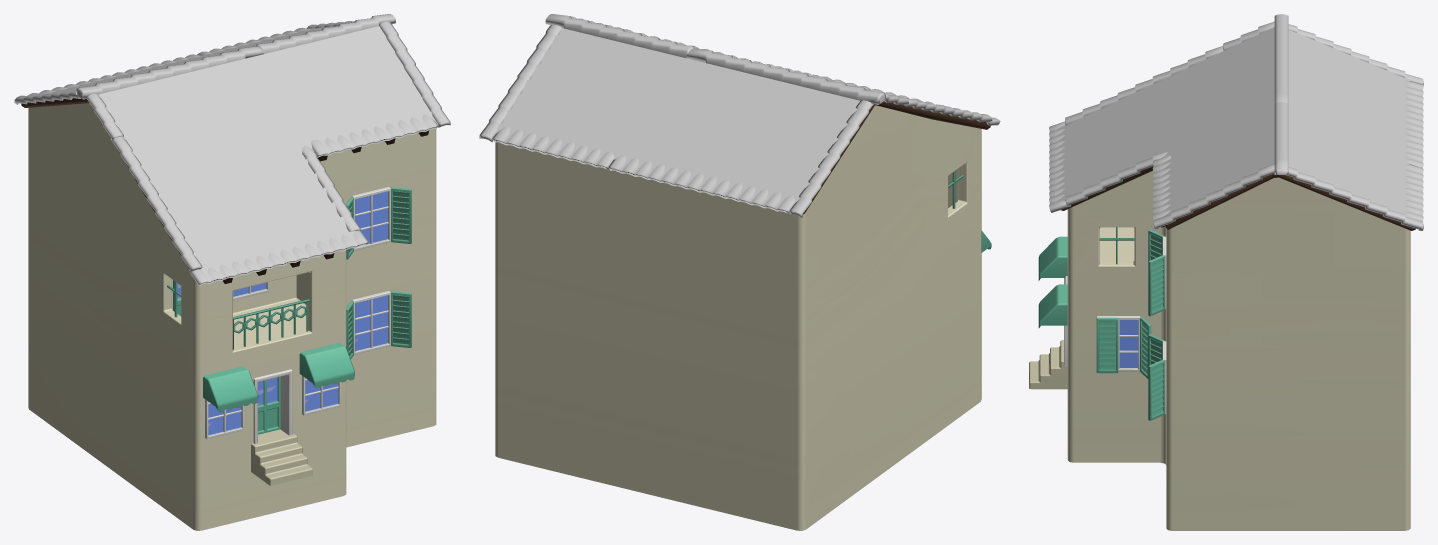
Rendered from BackgroundBuilding8.fbx.
3 renders of one model, left to right at view 1: azimuth 30°, elevation 25°; view 2: azimuth 150°, elevation 25°; view 3: azimuth 270°, elevation 25°, orthographic. The views are drawn at different scales.
Parts seen in each view (by area): view 1: Cube.178, Plane.011, Cube.182, Plane.004, Cube.184, Plane.003, Plane.010, Cube.191, Cube.193, Cube.187, Plane.035, Plane.034 (+13 smaller); view 2: Cube.178, Plane.038, Plane.037, Plane.003, Plane.034, Plane.039, Plane.036, Plane.040, Florist.002, Plane.010; view 3: Cube.178, Plane.011, Plane.038, Florist.002, Cube.182, Plane.040, Plane.037, Plane.003, Cube.198, Cube.197, Plane.033, Plane.010 (+11 smaller).
Part boxes in pixels (box(x1,y1,x2,y2)): Cube.178: box(28, 103, 436, 530); Plane.011: box(98, 26, 438, 276); Cube.182: box(251, 429, 312, 485); Plane.004: box(189, 230, 368, 285); Cube.184: box(351, 291, 390, 354); Plane.003: box(76, 46, 263, 99); Plane.010: box(112, 136, 202, 271); Cube.191: box(299, 342, 354, 388); Cube.193: box(203, 366, 258, 412); Cube.187: box(351, 187, 390, 250); Plane.035: box(311, 114, 438, 157); Plane.034: box(256, 14, 395, 53); Cube.178: box(495, 105, 981, 530); Plane.038: box(495, 28, 859, 205); Plane.037: box(608, 154, 794, 213); Plane.003: box(686, 48, 885, 104); Plane.034: box(545, 14, 694, 57); Plane.039: box(492, 126, 614, 169); Plane.036: box(789, 100, 873, 217); Plane.040: box(479, 24, 561, 142); Florist.002: box(802, 101, 990, 214); Plane.010: box(904, 98, 992, 122); Cube.178: box(1067, 171, 1410, 530); Plane.011: box(1055, 27, 1274, 216); Plane.038: box(1288, 30, 1415, 219); Florist.002: box(1061, 166, 1415, 230); Cube.182: box(1029, 340, 1067, 389); Plane.040: box(1285, 167, 1423, 230); Plane.037: box(1405, 80, 1423, 168); Plane.003: box(1274, 14, 1288, 103); Cube.198: box(1096, 317, 1118, 373); Cube.197: box(1096, 316, 1140, 371); Plane.033: box(1153, 164, 1274, 229); Plane.010: box(1064, 46, 1223, 125).
Size of the model in its own units: 1203 by 1350 by 1307.
